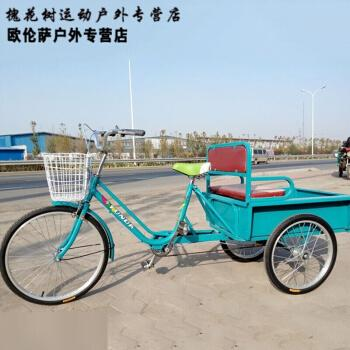empty: (3, 92, 348, 316)
